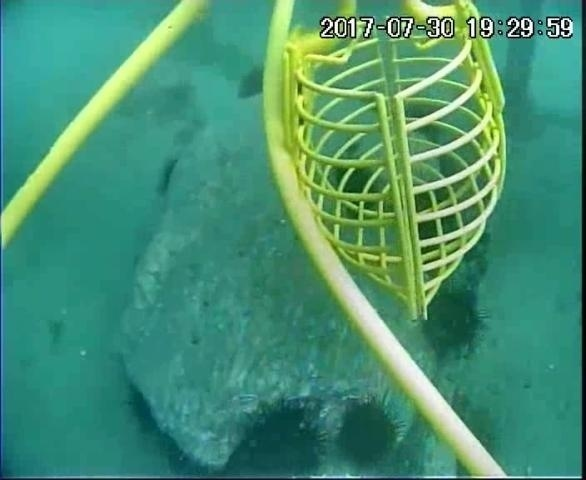echinus: (232, 397, 331, 476), (331, 393, 407, 472), (419, 284, 488, 356), (121, 384, 161, 437), (233, 62, 268, 104)
